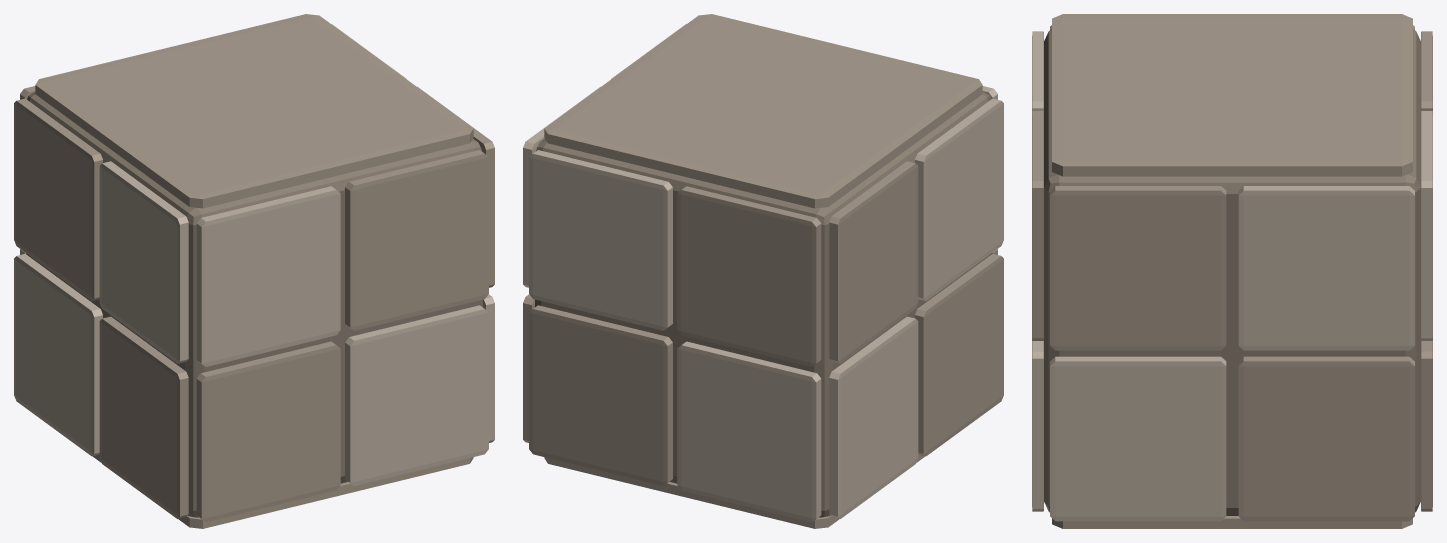
Rendered from block_brick.glb.
3 renders of one model, left to right at view 1: azimuth 30°, elevation 25°; view 2: azimuth 150°, elevation 25°; view 3: azimuth 270°, elevation 25°, orthographic. The views are drawn at different scales.
Parts seen in each view (by area): view 1: block_brick; view 2: block_brick; view 3: block_brick.
Part boxes in pixels (x1=…): block_brick: x1=14, y1=14, x2=494, y2=528; block_brick: x1=523, y1=14, x2=1003, y2=528; block_brick: x1=1032, y1=14, x2=1432, y2=528.
Size of the model in its own units: 1 by 1 by 1.
